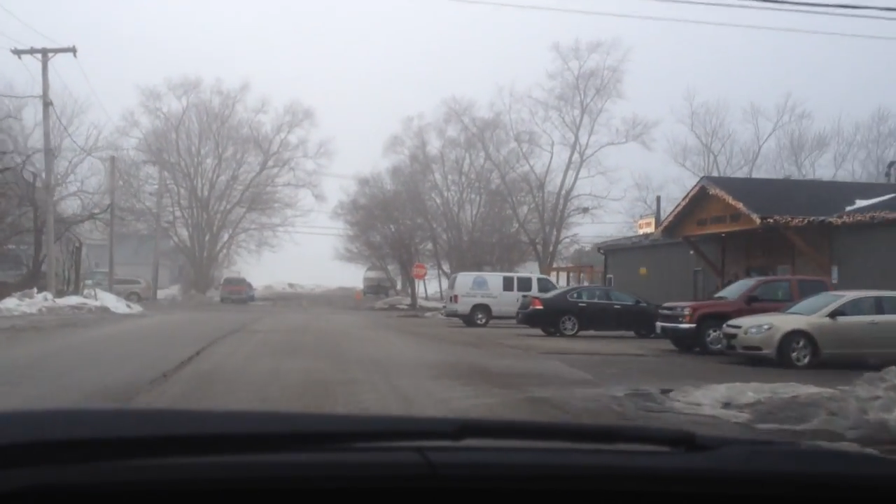car: (653, 274, 835, 350), (721, 289, 896, 368), (514, 284, 672, 337), (440, 270, 570, 325), (92, 276, 153, 304), (218, 275, 252, 303), (81, 268, 115, 292), (234, 280, 258, 301)
